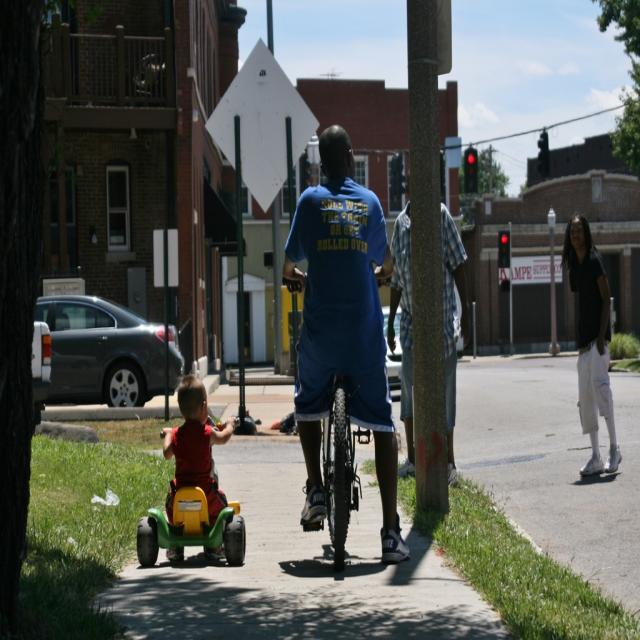traffic light: (465, 151, 479, 190), (498, 230, 511, 269)
